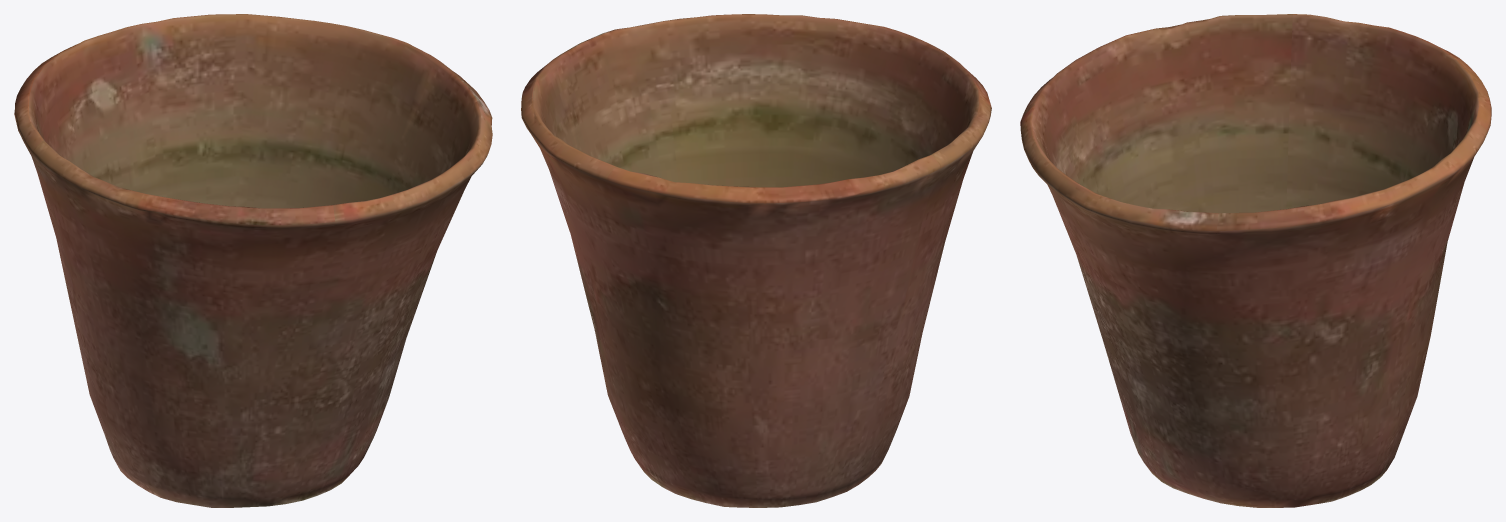
The model's file is macetero_barro.glb.
The picture shows the model from 3 angles, left to right: view 1: azimuth 30°, elevation 25°; view 2: azimuth 150°, elevation 25°; view 3: azimuth 270°, elevation 25°; orthographic projection.
Visible parts, largest first — view 1: planter_pot_clay_1k(Clone); view 2: planter_pot_clay_1k(Clone); view 3: planter_pot_clay_1k(Clone).
Boxes of the visible parts, x1,y1,x2,y2 form: planter_pot_clay_1k(Clone): (14,14,492,507); planter_pot_clay_1k(Clone): (521,14,991,507); planter_pot_clay_1k(Clone): (1020,14,1491,507).
Bounding box in the file's own units: 0.266 × 0.2219 × 0.2635.
1 material, 1 textured.
